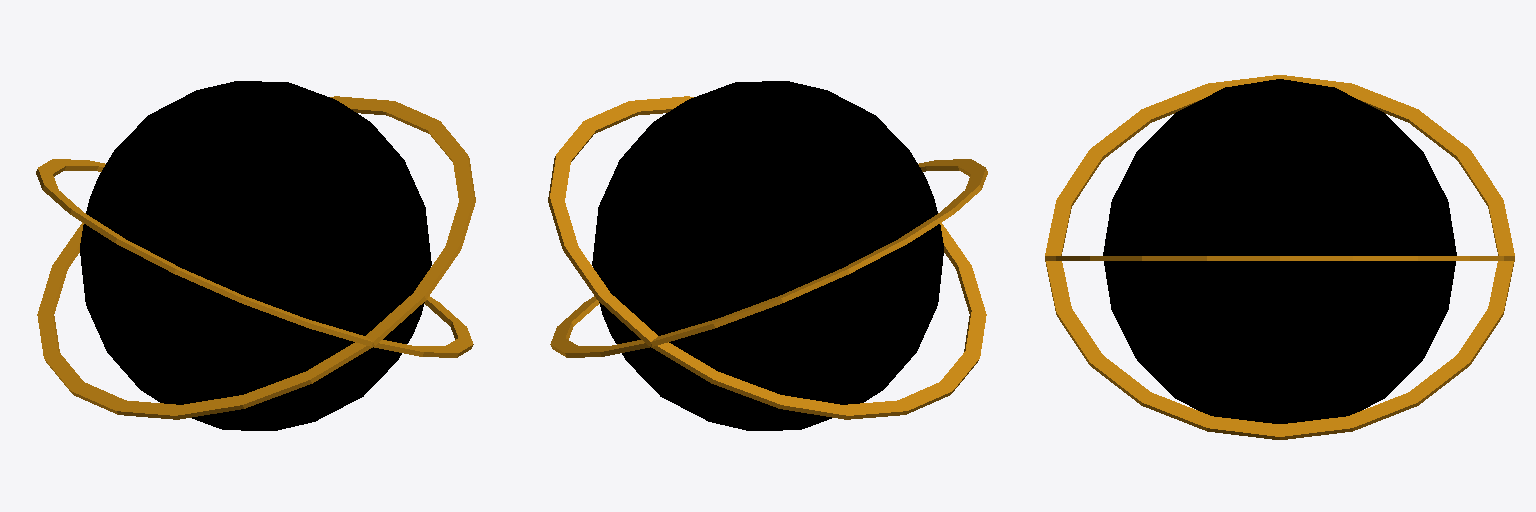
File: blacksun.obj
3 views of the same model, side by side, from view 1: azimuth 30°, elevation 25°; view 2: azimuth 150°, elevation 25°; view 3: azimuth 270°, elevation 25° (orthographic).
Visible parts, largest first — view 1: Icosphere.007_Icosphere; view 2: Icosphere.007_Icosphere; view 3: Icosphere.007_Icosphere.
Part boxes in pixels (bbox=[...]): Icosphere.007_Icosphere: bbox=[36, 81, 475, 430]; Icosphere.007_Icosphere: bbox=[548, 81, 987, 430]; Icosphere.007_Icosphere: bbox=[1045, 75, 1514, 439].
Bounding box in the file's own units: 297 × 245 × 325.